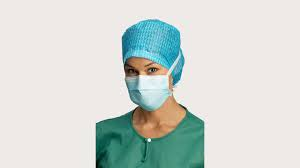surgical: (122, 74, 177, 111)
